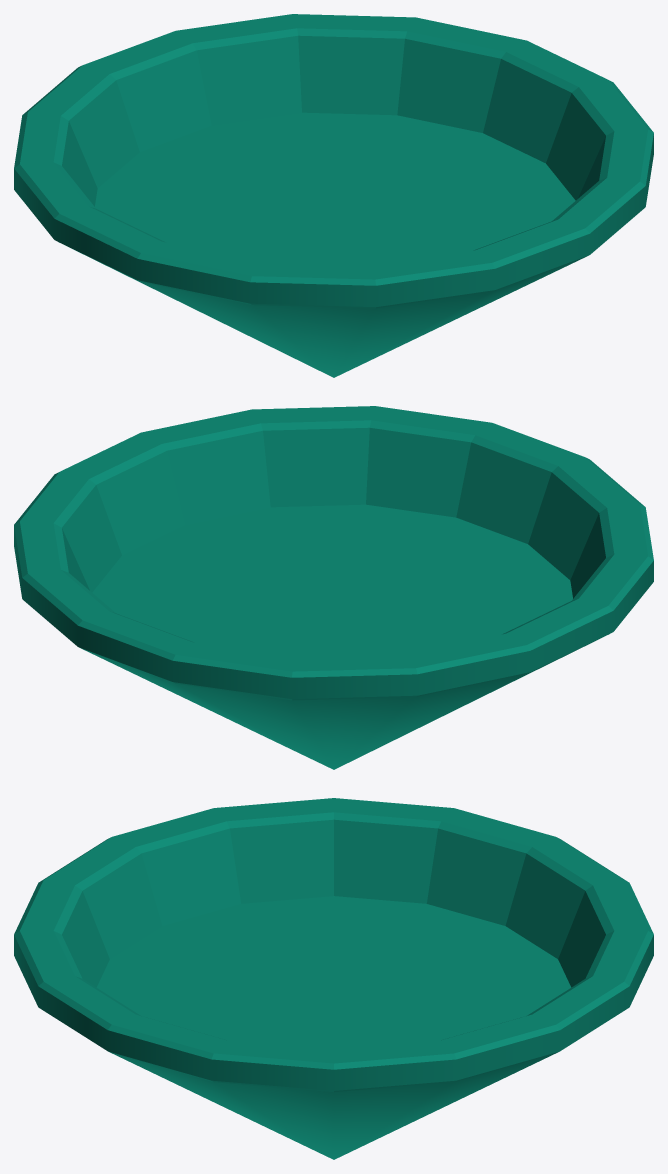
File: missile_base.obj
The picture shows the model from 3 angles, top to bottom: view 1: azimuth 30°, elevation 25°; view 2: azimuth 150°, elevation 25°; view 3: azimuth 270°, elevation 25°; orthographic projection.
Parts seen in each view (by area): view 1: Object001; view 2: Object001; view 3: Object001.
Boxes of the visible parts, x1,y1,x2,y2 form: Object001: (14,14,653,377); Object001: (14,406,653,769); Object001: (14,798,653,1159).
Size of the model in its own units: 30.39 by 12.01 by 30.39.
